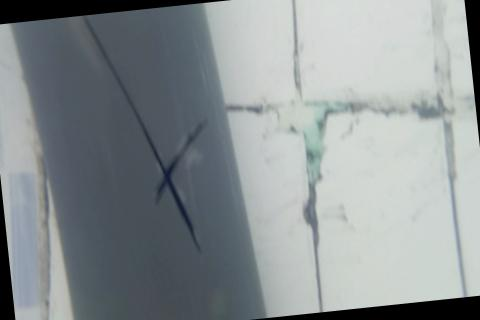keretakan: (83, 3, 224, 264)
